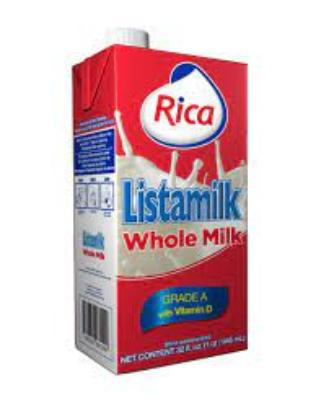Others: (64, 20, 254, 380)
